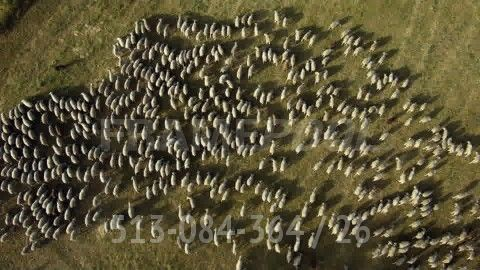sheep: (178, 171, 196, 190), (326, 212, 341, 234), (2, 165, 21, 182), (228, 142, 251, 156), (297, 198, 314, 216), (268, 202, 285, 220), (464, 138, 476, 163), (324, 160, 339, 180), (228, 103, 243, 123), (211, 226, 225, 247), (98, 215, 115, 232), (243, 103, 259, 121), (114, 125, 127, 147), (236, 96, 251, 115), (191, 134, 210, 149), (76, 182, 90, 202), (201, 139, 218, 155), (27, 144, 44, 160), (194, 168, 209, 186), (132, 157, 146, 176), (36, 129, 50, 148), (18, 189, 37, 203), (1, 112, 12, 136), (66, 148, 79, 168), (348, 84, 364, 100), (370, 242, 386, 258), (234, 23, 249, 40), (212, 145, 229, 160), (243, 171, 258, 188), (88, 209, 103, 226), (300, 25, 314, 43), (341, 162, 355, 180), (316, 198, 330, 216), (88, 159, 100, 180), (123, 201, 136, 220), (415, 203, 437, 214), (429, 158, 445, 173), (212, 27, 224, 47), (130, 21, 146, 36), (266, 186, 278, 206), (332, 113, 349, 127), (251, 82, 265, 99), (293, 251, 307, 268), (107, 216, 124, 230), (19, 211, 33, 228), (383, 240, 396, 258), (316, 44, 334, 57), (272, 216, 285, 234), (121, 111, 134, 129), (13, 134, 26, 152), (33, 183, 51, 196), (222, 109, 234, 128), (265, 114, 277, 133), (322, 125, 337, 140), (255, 181, 270, 196), (143, 185, 158, 200), (412, 237, 428, 251), (360, 206, 374, 222), (266, 137, 280, 153), (171, 203, 185, 219), (182, 210, 196, 226), (88, 121, 102, 137), (143, 139, 157, 155), (170, 117, 184, 133), (127, 177, 141, 193), (30, 199, 44, 215), (66, 229, 80, 245), (374, 158, 387, 175), (454, 190, 471, 203), (297, 67, 310, 84), (244, 63, 257, 80), (333, 222, 346, 239), (202, 209, 215, 226), (209, 186, 222, 203), (96, 80, 109, 97), (143, 155, 156, 172), (4, 181, 17, 198), (307, 32, 318, 52), (202, 169, 213, 189), (1, 147, 13, 165), (395, 171, 409, 186), (357, 139, 371, 154), (460, 230, 475, 244), (366, 204, 380, 219), (313, 95, 327, 110), (346, 104, 360, 119), (284, 109, 299, 123), (243, 129, 258, 143), (307, 190, 321, 205), (292, 221, 306, 236), (221, 187, 235, 202), (78, 118, 92, 133), (108, 111, 123, 125), (110, 183, 124, 198), (102, 179, 117, 193), (150, 181, 164, 196), (1, 214, 15, 229), (312, 68, 323, 87), (335, 134, 346, 153), (173, 11, 184, 30), (18, 98, 37, 109), (101, 93, 117, 106), (10, 105, 23, 121), (335, 94, 347, 111), (134, 138, 146, 155), (65, 181, 75, 201), (66, 162, 76, 182), (54, 119, 64, 139), (429, 131, 440, 149), (78, 89, 92, 103), (25, 126, 39, 140), (32, 208, 46, 222), (407, 166, 420, 181), (441, 252, 456, 265), (199, 24, 214, 37), (128, 31, 141, 46), (186, 194, 199, 209), (78, 127, 91, 142), (87, 83, 100, 98), (158, 179, 171, 194), (24, 195, 39, 208), (37, 216, 50, 231), (360, 115, 372, 131), (343, 146, 355, 162), (294, 96, 306, 112), (211, 92, 223, 108), (257, 89, 269, 105), (111, 77, 123, 93), (414, 230, 433, 240), (83, 163, 93, 182), (58, 189, 68, 208), (327, 18, 344, 29), (416, 137, 427, 154), (430, 124, 447, 135), (269, 50, 280, 67), (309, 230, 320, 247), (107, 153, 118, 170), (154, 136, 165, 153), (31, 169, 42, 186), (402, 98, 416, 111), (313, 158, 326, 172), (292, 239, 305, 253), (20, 133, 34, 146), (38, 194, 51, 208), (39, 221, 53, 234), (44, 224, 57, 238), (110, 43, 122, 58), (146, 45, 156, 63), (261, 234, 273, 249), (274, 185, 286, 200), (238, 204, 248, 222), (67, 96, 76, 116), (151, 103, 163, 118), (33, 100, 48, 112), (376, 51, 387, 67), (393, 153, 404, 169), (282, 87, 293, 103), (152, 115, 163, 131), (165, 134, 176, 150), (56, 94, 67, 110), (237, 62, 247, 79), (157, 51, 167, 68), (82, 139, 92, 156), (116, 153, 126, 170), (126, 154, 136, 171), (360, 143, 373, 156), (358, 164, 371, 177), (129, 48, 142, 61), (256, 157, 269, 170), (128, 109, 141, 122), (50, 150, 63, 163), (53, 200, 66, 213), (372, 174, 386, 186), (357, 187, 369, 201), (420, 186, 434, 198), (315, 128, 323, 149), (295, 141, 309, 153), (281, 47, 293, 61), (269, 7, 281, 21), (336, 229, 348, 243), (233, 256, 245, 270), (49, 141, 63, 153), (16, 158, 28, 172), (11, 168, 25, 180), (12, 215, 24, 229), (380, 130, 395, 141), (430, 144, 441, 159), (380, 199, 391, 214), (276, 237, 287, 252), (162, 159, 173, 174), (42, 169, 53, 184), (265, 46, 274, 64), (270, 155, 279, 173), (294, 26, 304, 42), (321, 65, 331, 81), (251, 21, 261, 37), (151, 68, 161, 84), (276, 153, 286, 169), (280, 193, 288, 213), (364, 68, 377, 80), (433, 234, 445, 247), (252, 45, 264, 58), (68, 128, 80, 141), (48, 89, 60, 102), (2, 140, 15, 152), (140, 46, 151, 60), (167, 49, 178, 63), (180, 80, 191, 94), (264, 217, 275, 231), (87, 103, 98, 117), (119, 140, 130, 154), (45, 122, 56, 136), (19, 146, 33, 157), (35, 158, 46, 172), (28, 157, 39, 171), (155, 18, 164, 35), (216, 118, 225, 135), (139, 124, 148, 141), (47, 200, 56, 217), (370, 37, 380, 52), (379, 72, 389, 87), (258, 48, 268, 63), (265, 31, 275, 46), (190, 18, 200, 33), (260, 186, 270, 201), (181, 154, 191, 169), (133, 101, 143, 116), (21, 170, 31, 185), (442, 135, 451, 151), (419, 196, 435, 205), (418, 209, 434, 218), (224, 23, 233, 39), (206, 25, 218, 37), (133, 65, 142, 81), (188, 114, 200, 126), (88, 143, 96, 161), (118, 94, 127, 110), (138, 89, 147, 105), (426, 252, 437, 265), (314, 86, 325, 99), (340, 142, 351, 155), (170, 56, 181, 69), (204, 84, 215, 97), (188, 143, 199, 156), (235, 177, 246, 190), (144, 87, 155, 100), (142, 105, 153, 118), (154, 160, 165, 173), (27, 231, 40, 242), (349, 35, 363, 45), (412, 184, 419, 204), (395, 245, 409, 255), (247, 12, 257, 26), (219, 24, 229, 38), (124, 37, 134, 51), (179, 66, 189, 80), (117, 63, 127, 77), (139, 64, 149, 78), (198, 98, 208, 112), (207, 107, 217, 121), (100, 114, 110, 128), (99, 169, 109, 183), (58, 108, 68, 122), (47, 155, 57, 169), (176, 48, 184, 65), (362, 107, 371, 122), (419, 114, 434, 123), (322, 107, 331, 122), (257, 130, 266, 145), (341, 26, 353, 37), (340, 33, 352, 44), (360, 55, 371, 67), (390, 89, 401, 101), (426, 168, 438, 179), (444, 231, 455, 243), (227, 41, 239, 52), (109, 96, 120, 108), (11, 117, 22, 129), (285, 70, 298, 80), (232, 15, 242, 28), (179, 81, 189, 94), (217, 72, 227, 85), (225, 227, 235, 240), (107, 69, 117, 82), (26, 109, 36, 122), (20, 157, 30, 170), (409, 219, 425, 227), (144, 64, 152, 80), (68, 215, 76, 231), (390, 75, 399, 89), (401, 77, 410, 91), (402, 134, 411, 148), (447, 135, 454, 153), (366, 186, 375, 200), (125, 62, 134, 76), (206, 53, 215, 67), (234, 86, 243, 100), (283, 243, 292, 257), (217, 178, 226, 192), (25, 168, 34, 182), (363, 89, 374, 100), (141, 20, 152, 31), (115, 37, 126, 48), (163, 43, 174, 54), (168, 97, 179, 108), (101, 128, 112, 139), (161, 185, 172, 196), (374, 77, 382, 92), (404, 117, 414, 129), (376, 200, 384, 215), (325, 81, 335, 93), (329, 136, 341, 146), (300, 99, 308, 114), (281, 37, 291, 49), (157, 68, 167, 80), (94, 146, 102, 161), (172, 138, 184, 148), (51, 165, 59, 180), (55, 163, 65, 175), (82, 95, 89, 112), (341, 46, 354, 55), (377, 104, 386, 117), (407, 101, 416, 114), (419, 101, 428, 114), (416, 154, 425, 167), (302, 57, 311, 70), (194, 56, 203, 69), (164, 76, 177, 85), (225, 77, 234, 90), (81, 210, 90, 223), (74, 141, 83, 154), (73, 119, 82, 132), (102, 84, 111, 97), (39, 111, 48, 124), (452, 199, 458, 218), (398, 239, 412, 247), (182, 25, 190, 39), (163, 24, 171, 38), (189, 45, 197, 59), (197, 42, 205, 56), (202, 73, 210, 87), (188, 94, 196, 108), (355, 45, 366, 55), (353, 185, 364, 195), (184, 181, 195, 191), (76, 101, 86, 112), (370, 156, 379, 168), (332, 84, 341, 96), (196, 88, 205, 100), (77, 163, 83, 181), (174, 147, 183, 159), (25, 222, 34, 234), (326, 90, 334, 103), (281, 14, 289, 27), (245, 55, 253, 68), (172, 81, 180, 94), (320, 55, 330, 65), (17, 104, 27, 114), (8, 110, 18, 120), (306, 106, 315, 117), (210, 175, 219, 186), (337, 156, 344, 170), (184, 48, 191, 62), (220, 96, 227, 110), (124, 93, 131, 107), (474, 153, 480, 169), (309, 59, 317, 71), (165, 117, 173, 129), (454, 142, 461, 155), (186, 62, 193, 75), (130, 89, 137, 102), (51, 103, 58, 116), (340, 105, 349, 115), (133, 60, 143, 69), (157, 83, 166, 93), (365, 59, 372, 71), (371, 73, 378, 85), (231, 240, 237, 254), (71, 195, 77, 209), (153, 41, 162, 50), (180, 106, 189, 115), (291, 55, 299, 65), (167, 85, 177, 93), (212, 50, 220, 60), (207, 120, 217, 128), (389, 73, 396, 84), (331, 130, 338, 140), (142, 36, 149, 46), (370, 105, 377, 114), (241, 14, 248, 23), (194, 32, 203, 39), (180, 93, 186, 102), (165, 66, 169, 79), (156, 62, 161, 72), (1, 117, 8, 124), (159, 42, 163, 54), (222, 66, 226, 75), (401, 201, 408, 206), (47, 119, 54, 122)
